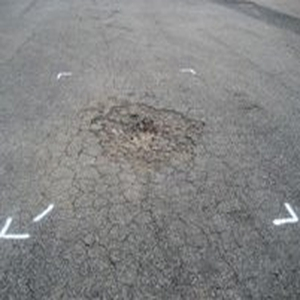pothole: (110, 110, 184, 165)
